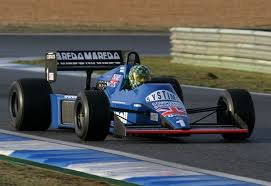FormulaOneCar: (4, 44, 258, 147)
